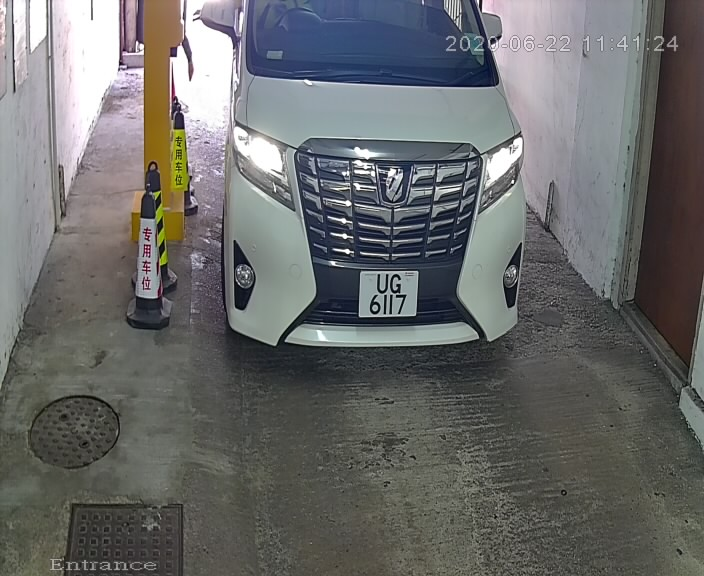privatecar: (182, 1, 541, 378)
